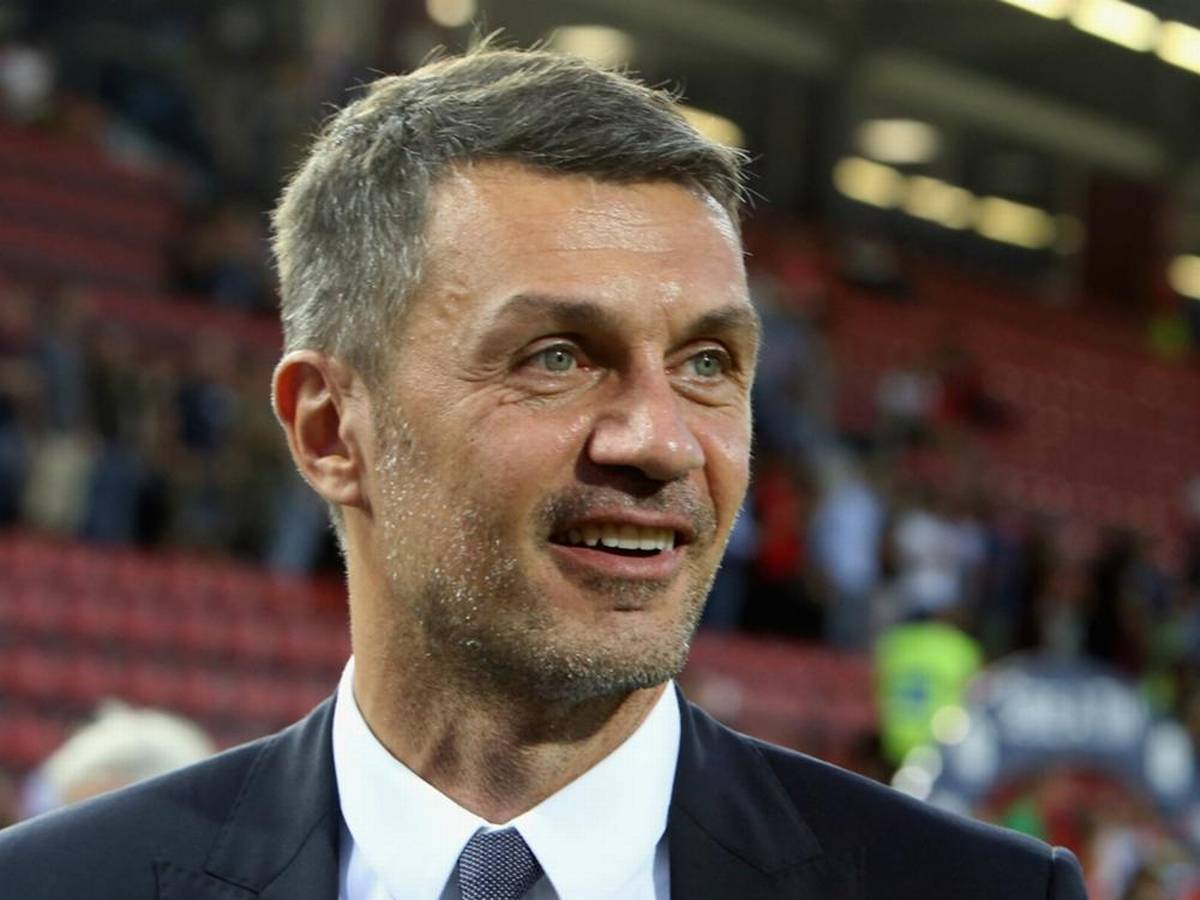no-glove: (411, 220, 801, 682)
